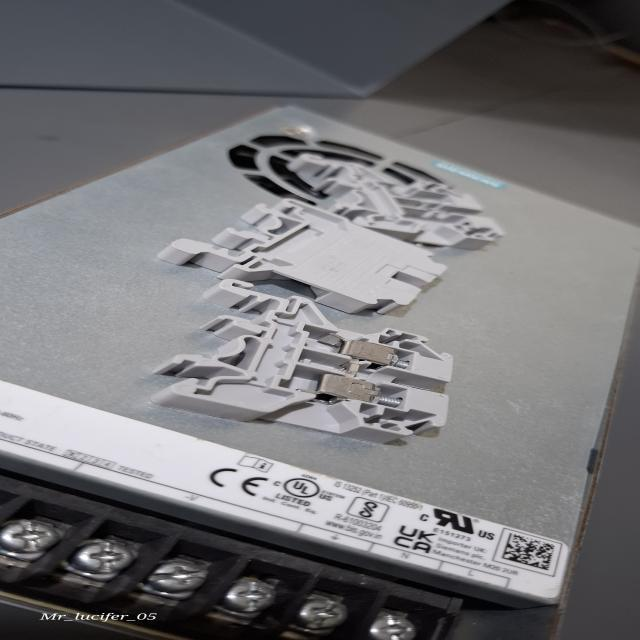Inverted: (168, 206, 476, 294)
Pass: (140, 296, 466, 450)
Reject: (258, 136, 509, 249)
